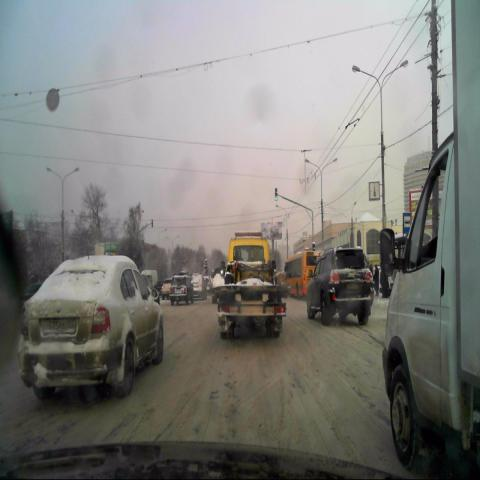5_16: (401, 213, 413, 235)
